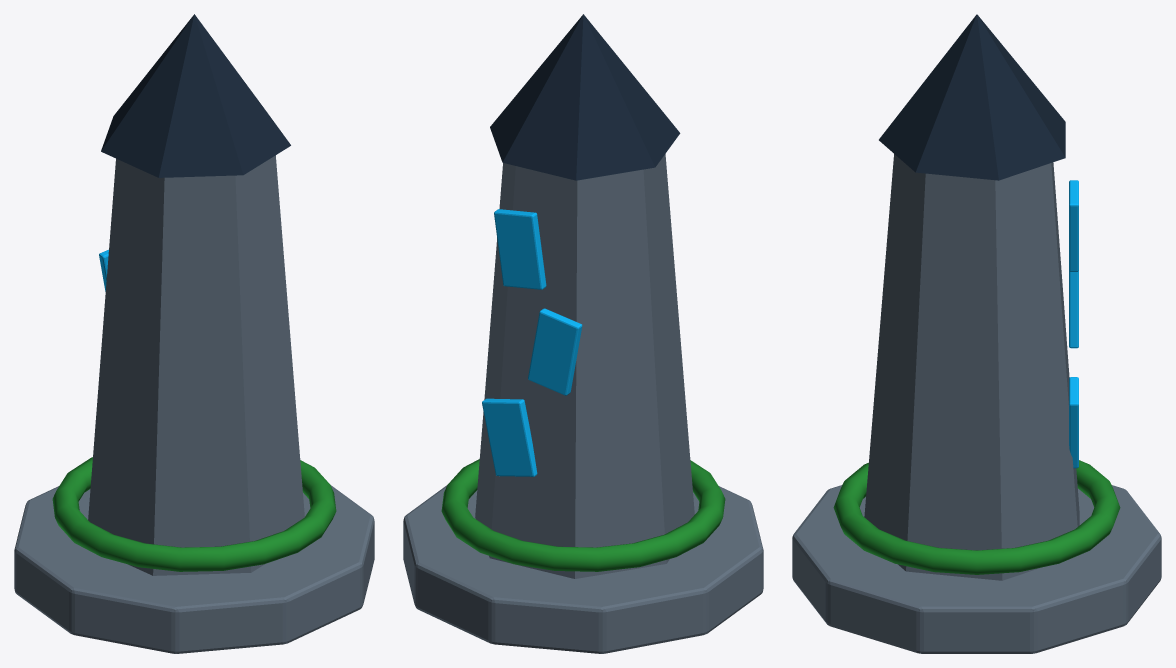
The model's file is ancient_waystone_marker.obj.
3 renders of one model, left to right at view 1: azimuth 30°, elevation 25°; view 2: azimuth 150°, elevation 25°; view 3: azimuth 270°, elevation 25°, orthographic.
Visible parts, largest first — view 1: ow_waystone_body_M_stone, ow_waystone_base_M_stone, ow_waystone_cap_M_gunmetal, ow_waystone_root_ring_M_grass; view 2: ow_waystone_body_M_stone, ow_waystone_base_M_stone, ow_waystone_cap_M_gunmetal, ow_waystone_root_ring_M_grass, ow_waystone_rune_2_M_cyan, ow_waystone_rune_0_M_cyan, ow_waystone_rune_1_M_cyan; view 3: ow_waystone_body_M_stone, ow_waystone_base_M_stone, ow_waystone_cap_M_gunmetal, ow_waystone_root_ring_M_grass, ow_waystone_rune_2_M_cyan, ow_waystone_rune_0_M_cyan, ow_waystone_rune_1_M_cyan.
Part boxes in pixels (left/top/right/bottom): ow_waystone_body_M_stone: left=88, top=155, right=304, bottom=575; ow_waystone_base_M_stone: left=14, top=485, right=374, bottom=653; ow_waystone_cap_M_gunmetal: left=101, top=14, right=290, bottom=177; ow_waystone_root_ring_M_grass: left=52, top=457, right=336, bottom=571; ow_waystone_body_M_stone: left=475, top=154, right=694, bottom=578; ow_waystone_base_M_stone: left=403, top=485, right=763, bottom=653; ow_waystone_cap_M_gunmetal: left=490, top=14, right=680, bottom=180; ow_waystone_root_ring_M_grass: left=441, top=459, right=725, bottom=571; ow_waystone_rune_2_M_cyan: left=494, top=209, right=546, bottom=289; ow_waystone_rune_0_M_cyan: left=482, top=398, right=537, bottom=476; ow_waystone_rune_1_M_cyan: left=528, top=308, right=582, bottom=395; ow_waystone_body_M_stone: left=864, top=154, right=1079, bottom=580; ow_waystone_base_M_stone: left=792, top=485, right=1161, bottom=653; ow_waystone_cap_M_gunmetal: left=879, top=14, right=1065, bottom=180; ow_waystone_root_ring_M_grass: left=833, top=460, right=1120, bottom=574; ow_waystone_rune_2_M_cyan: left=1069, top=180, right=1078, bottom=271; ow_waystone_rune_0_M_cyan: left=1069, top=377, right=1078, bottom=468; ow_waystone_rune_1_M_cyan: left=1069, top=271, right=1078, bottom=348.
Bounding box in the file's own units: 1.22 × 2.16 × 1.27.
